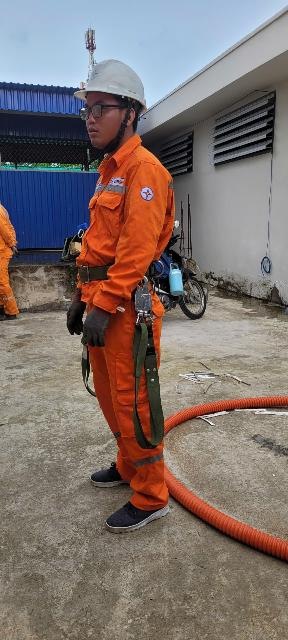gloves: (47, 290, 94, 345), (82, 296, 121, 362)
harness: (64, 255, 152, 299)
helmet: (74, 49, 174, 112)
shoes: (97, 480, 178, 539), (77, 450, 152, 497)
